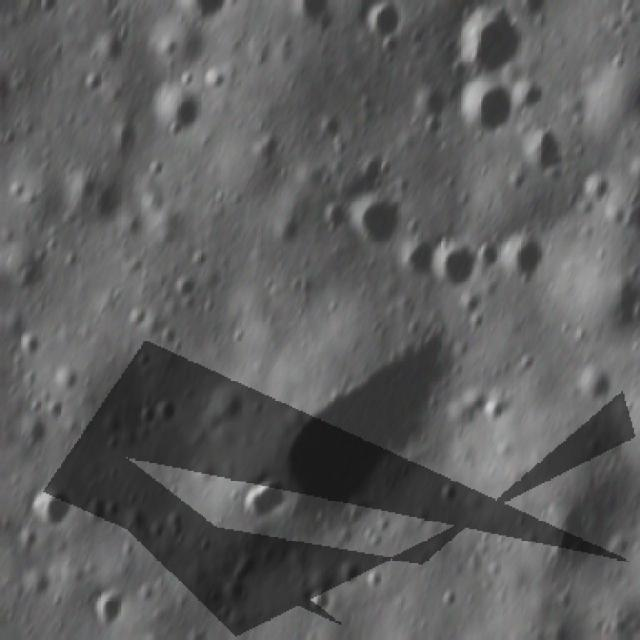crater: (280, 328, 469, 554), (450, 7, 518, 73), (452, 80, 518, 146), (417, 240, 477, 306), (341, 189, 407, 246), (494, 227, 554, 288), (228, 475, 289, 527), (68, 174, 125, 229), (562, 361, 612, 416), (150, 88, 202, 138), (385, 236, 433, 286), (22, 479, 68, 530), (410, 78, 447, 136), (512, 76, 554, 121), (359, 3, 404, 40), (84, 588, 127, 626), (576, 168, 613, 210), (296, 586, 338, 616), (12, 327, 43, 364), (328, 559, 361, 590), (152, 395, 180, 430), (46, 363, 77, 392)
